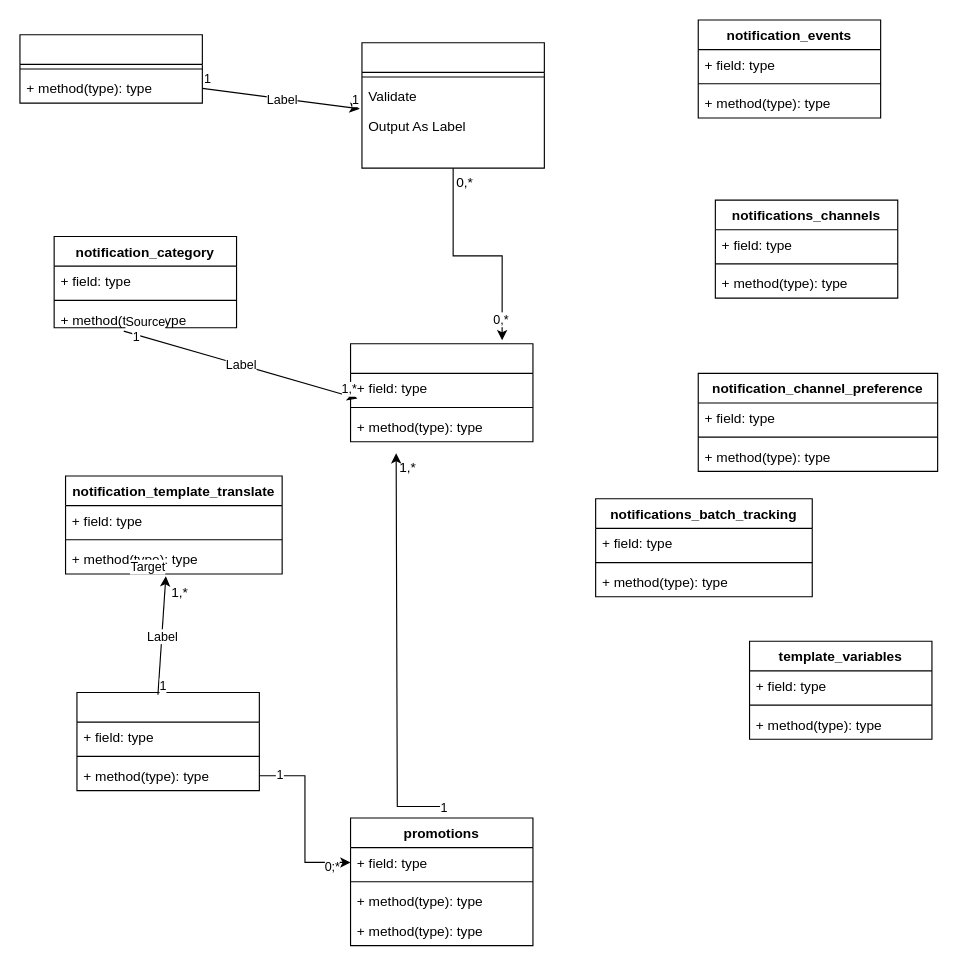
Image size: 958x969. Some labels were removed from this diagram. Here are the shapes that lost their labels. From the top down, the box of each, then its label:
(19, 34, 202, 103): clients_preferences
(361, 42, 544, 168): clients
(349, 343, 533, 442): notifications
(76, 691, 259, 791): notification_template
